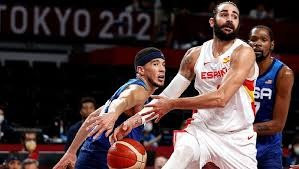basketball: (105, 137, 149, 169)
spain_player: (177, 1, 251, 169)
usa_player: (58, 45, 166, 169), (244, 23, 294, 169)
